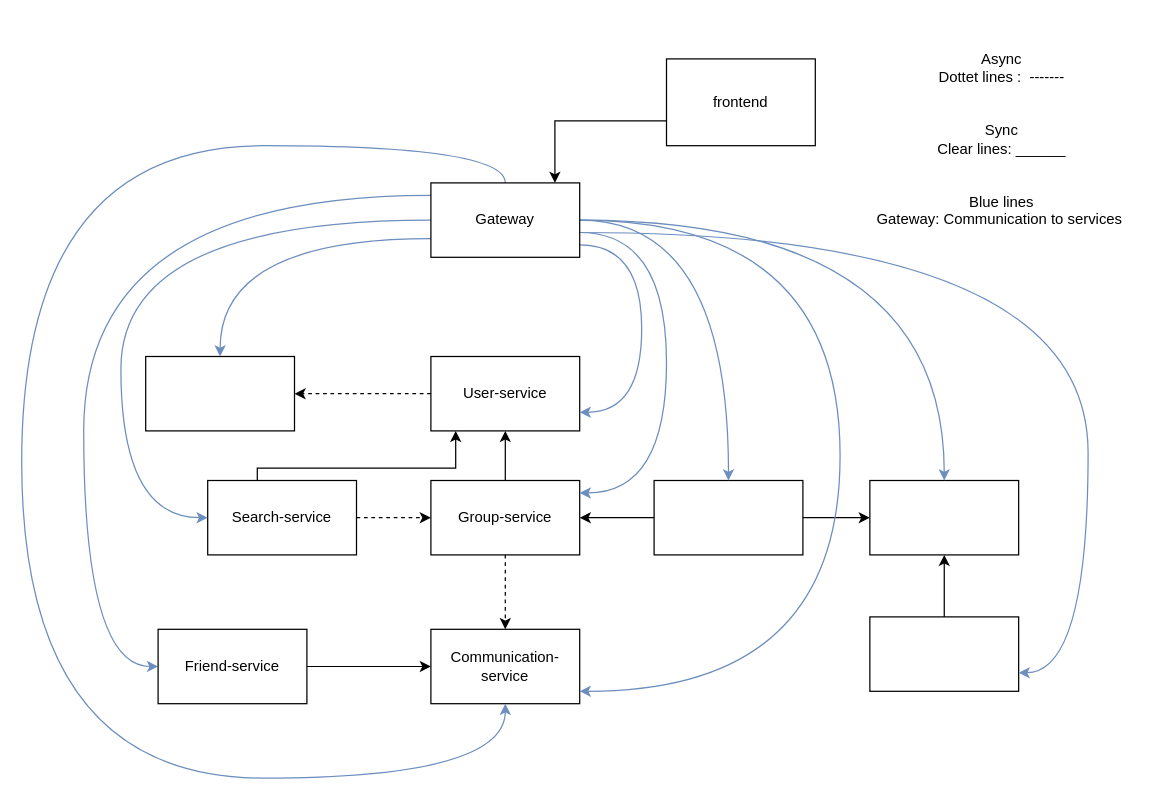
The diagram is 1159 pixels wide and 800 high, and some of its shapes have lost their labels. Here are the shapes that lost their labels. From the top down, the centre of each, then its label:
(x=219, y=393): Profile-service
(x=728, y=517): Livesearch-service
(x=944, y=517): Runescape-service
(x=944, y=653): Leaderboard-service
